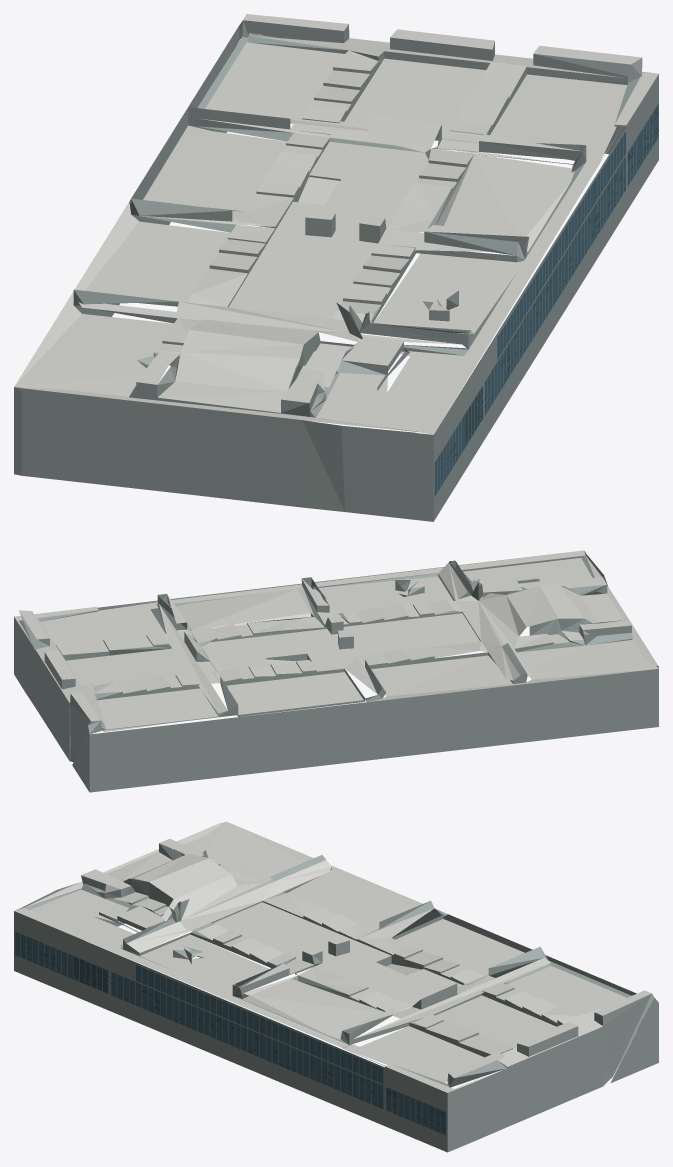
The model's file is jacob-bontiusplaats-9.lod1.glb.
3 renders of one model, top to bottom at view 1: azimuth 30°, elevation 25°; view 2: azimuth 150°, elevation 25°; view 3: azimuth 270°, elevation 25°, orthographic. The views are drawn at different scales.
Parts seen in each view (by area): view 1: jacob-bontiusplaats-9; view 2: jacob-bontiusplaats-9; view 3: jacob-bontiusplaats-9.
Boxes of the visible parts, bbox=[...] form: jacob-bontiusplaats-9: bbox=[14, 14, 658, 521]; jacob-bontiusplaats-9: bbox=[14, 550, 658, 792]; jacob-bontiusplaats-9: bbox=[14, 821, 658, 1152].
Bounding box in the file's own units: 187 × 26.51 × 188.
